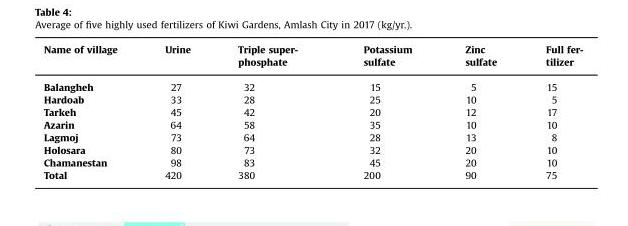table: (43, 42, 582, 180)
table column: (213, 42, 330, 180), (330, 42, 437, 180), (43, 42, 140, 180), (437, 42, 520, 180), (140, 42, 213, 180), (520, 42, 582, 180)
table column header: (43, 42, 582, 73)
table row: (43, 42, 582, 73), (43, 73, 582, 92), (43, 92, 582, 105), (43, 117, 582, 130), (43, 130, 582, 143), (43, 155, 582, 168), (43, 105, 582, 117), (43, 143, 582, 155), (43, 168, 582, 180)
